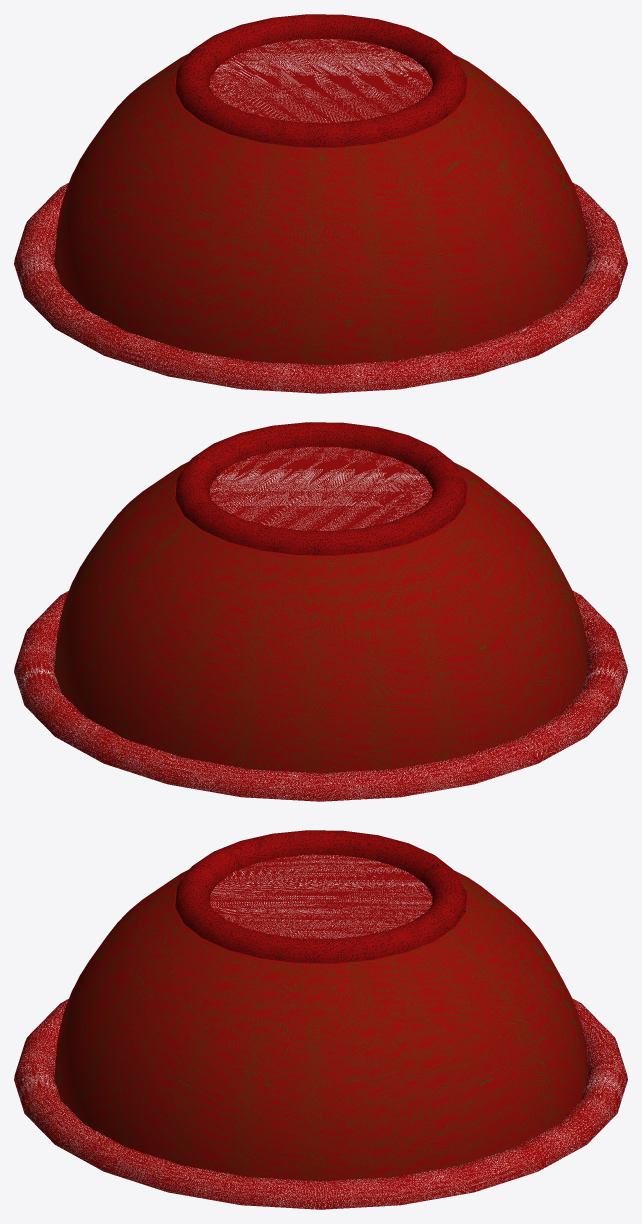
Rendered from greenNote.dae.
The picture shows the model from 3 angles, top to bottom: view 1: azimuth 30°, elevation 25°; view 2: azimuth 150°, elevation 25°; view 3: azimuth 270°, elevation 25°; orthographic projection.
Parts seen in each view (by area): view 1: group_0 (×4); view 2: group_0 (×4); view 3: group_0 (×4).
Boxes of the visible parts, <box> form: group_0 (×4): <box>14,14,627,393</box>; group_0 (×4): <box>14,422,627,801</box>; group_0 (×4): <box>14,830,627,1209</box>.
Size of the model in its own units: 78.74 by 78.74 by 27.43.
